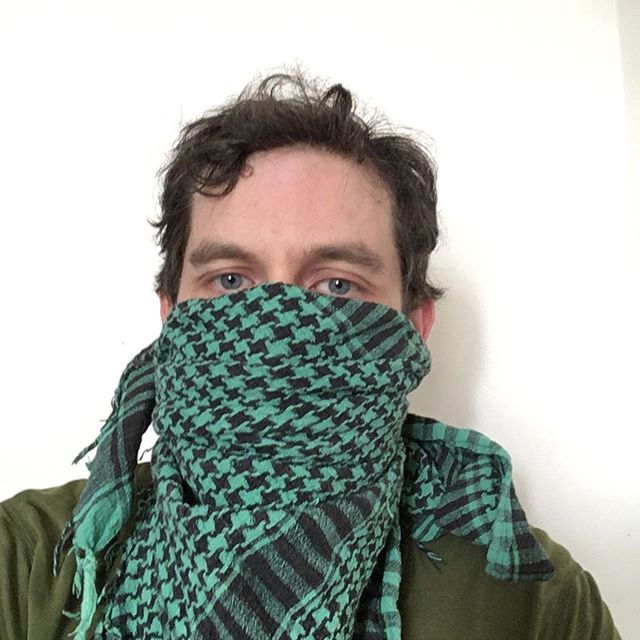homemade: (145, 287, 420, 571)
